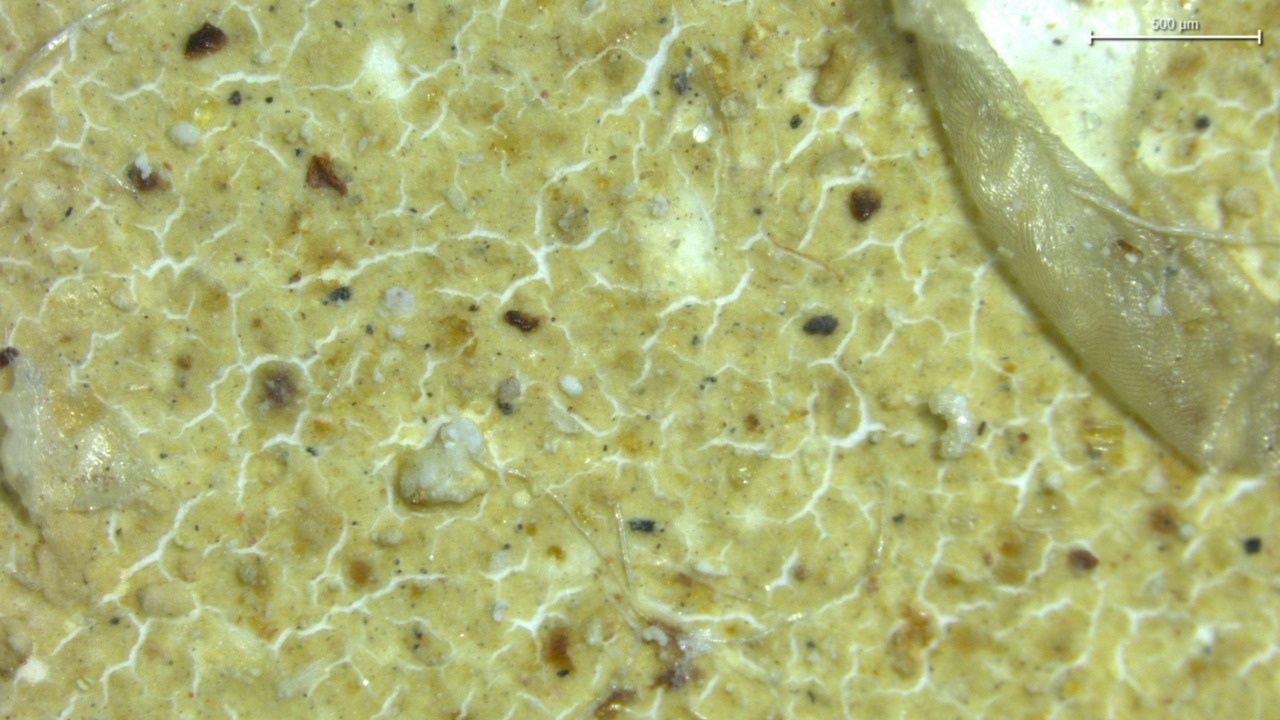microplastic_fragment: (398, 418, 488, 505), (929, 389, 975, 458)
